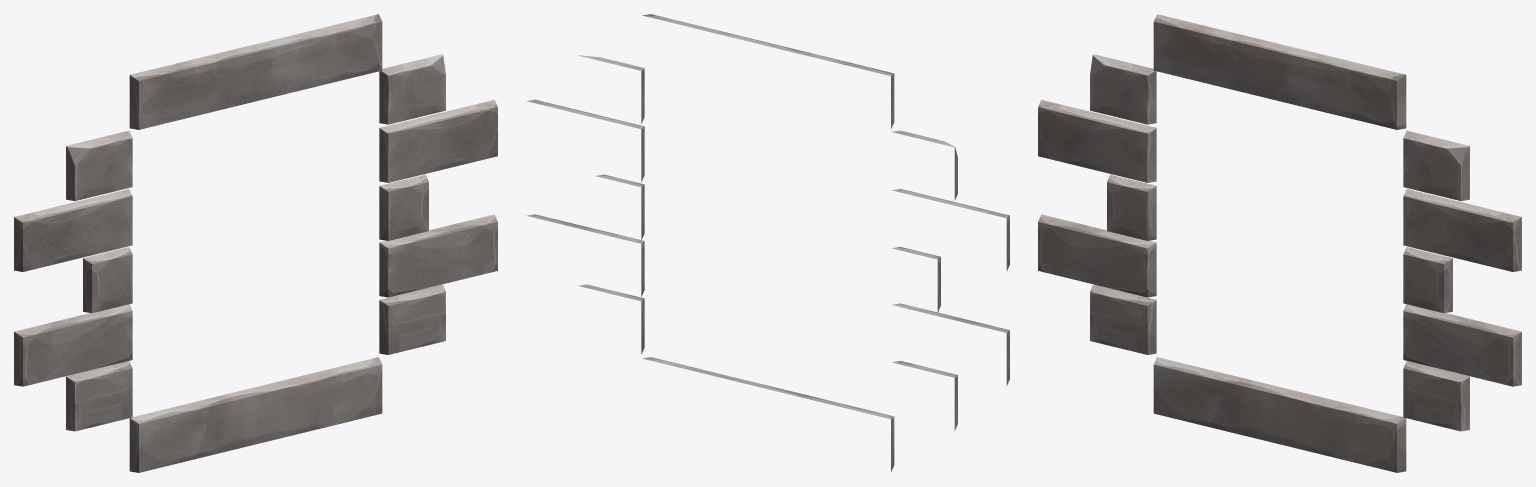
The picture shows the model from 3 angles, left to right: view 1: azimuth 30°, elevation 25°; view 2: azimuth 150°, elevation 25°; view 3: azimuth 330°, elevation 25°; orthographic projection.
Visible parts, largest first — view 1: body0_model0_lod0_mesh0; view 2: body0_model0_lod0_mesh0; view 3: body0_model0_lod0_mesh0.
Boxes of the visible parts, left/top/right/bottom form: body0_model0_lod0_mesh0: left=14, top=14, right=497, bottom=472; body0_model0_lod0_mesh0: left=526, top=14, right=1009, bottom=471; body0_model0_lod0_mesh0: left=1038, top=14, right=1521, bottom=472.
Bounding box in the file's own units: 117 × 92.32 × 2.63.
Materials: 1 (1 with a texture image).
